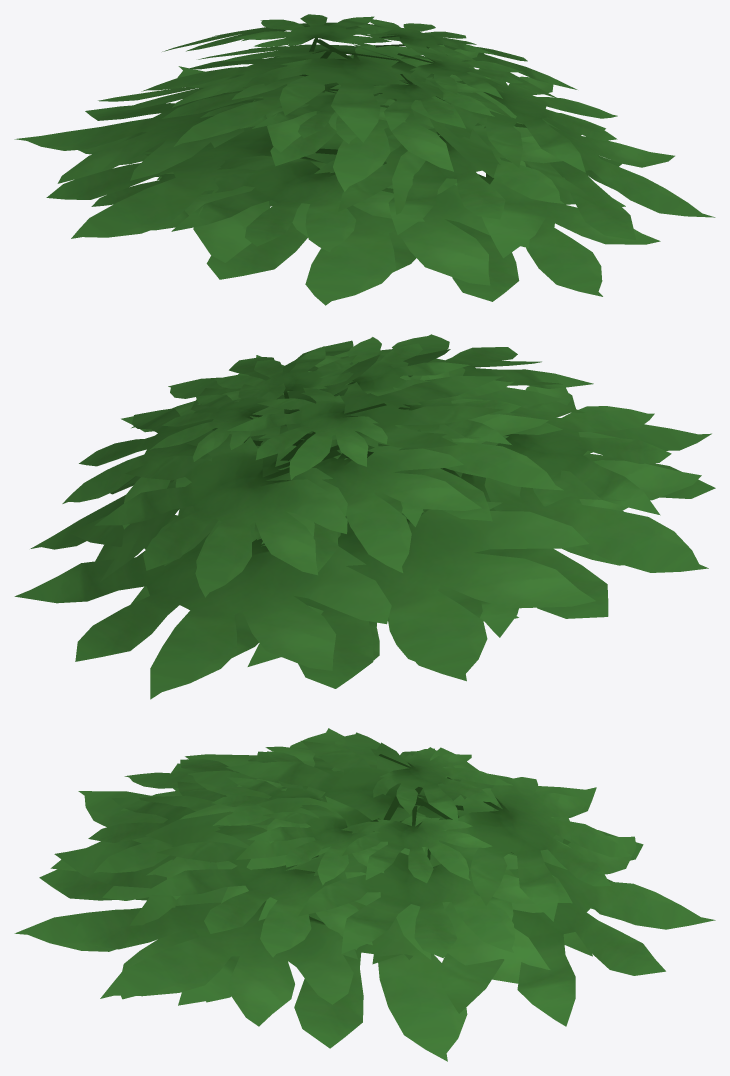
The model's file is Leaves_002_002.fbx.
The picture shows the model from 3 angles, top to bottom: view 1: azimuth 30°, elevation 25°; view 2: azimuth 150°, elevation 25°; view 3: azimuth 270°, elevation 25°; orthographic projection. The views are drawn at different scales.
Parts seen in each view (by area): view 1: Leaves_002; view 2: Leaves_002; view 3: Leaves_002.
Boxes of the visible parts, box(x1,y1,x2,y2) form: Leaves_002: box(14, 14, 715, 305); Leaves_002: box(14, 334, 715, 699); Leaves_002: box(14, 728, 715, 1061).
Size of the model in its own units: 342 by 101 by 376.
